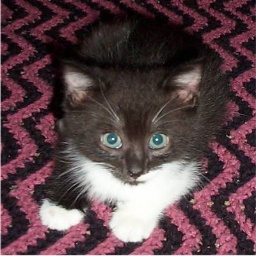cat: (34, 13, 231, 250)
